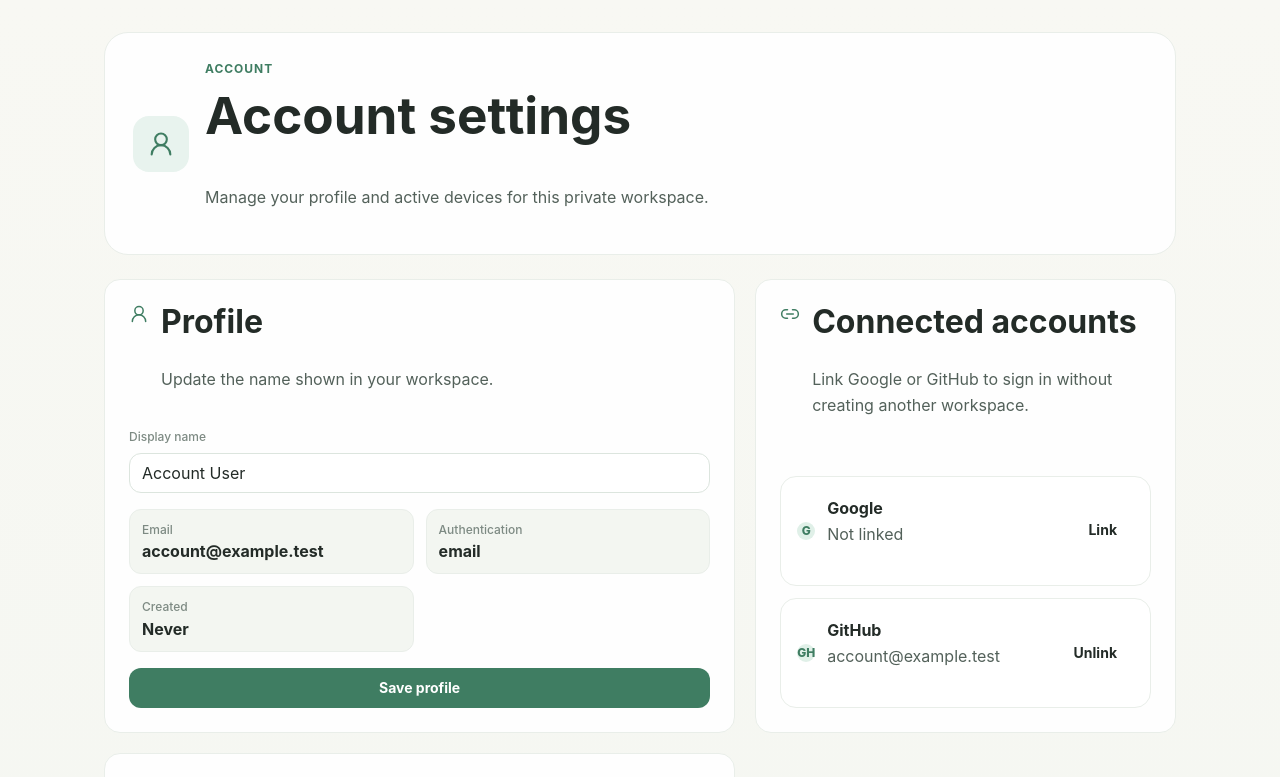
AccountPage › shows OAuth bindings and unlinks a provider with confirmation
Check: the text "GitHub" is shown, box [827, 620, 882, 640]
Check: the text "Google" is shown, box [827, 498, 883, 518]
Click the button "Unlink".
click(1095, 653)  # box [1057, 633, 1134, 673]
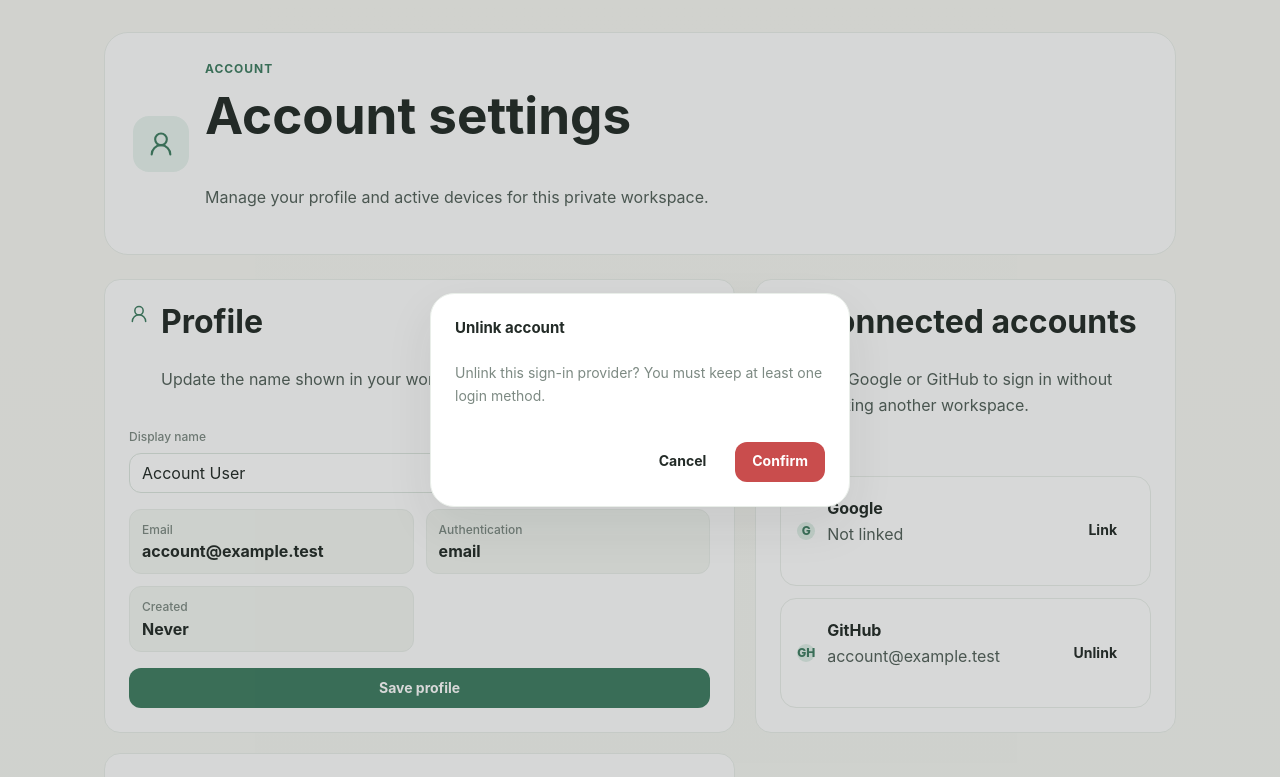
Check: the heading "Unlink account" is shown, box [455, 318, 565, 337]
Click the button "Confirm".
click(780, 462)  # box [735, 442, 825, 482]
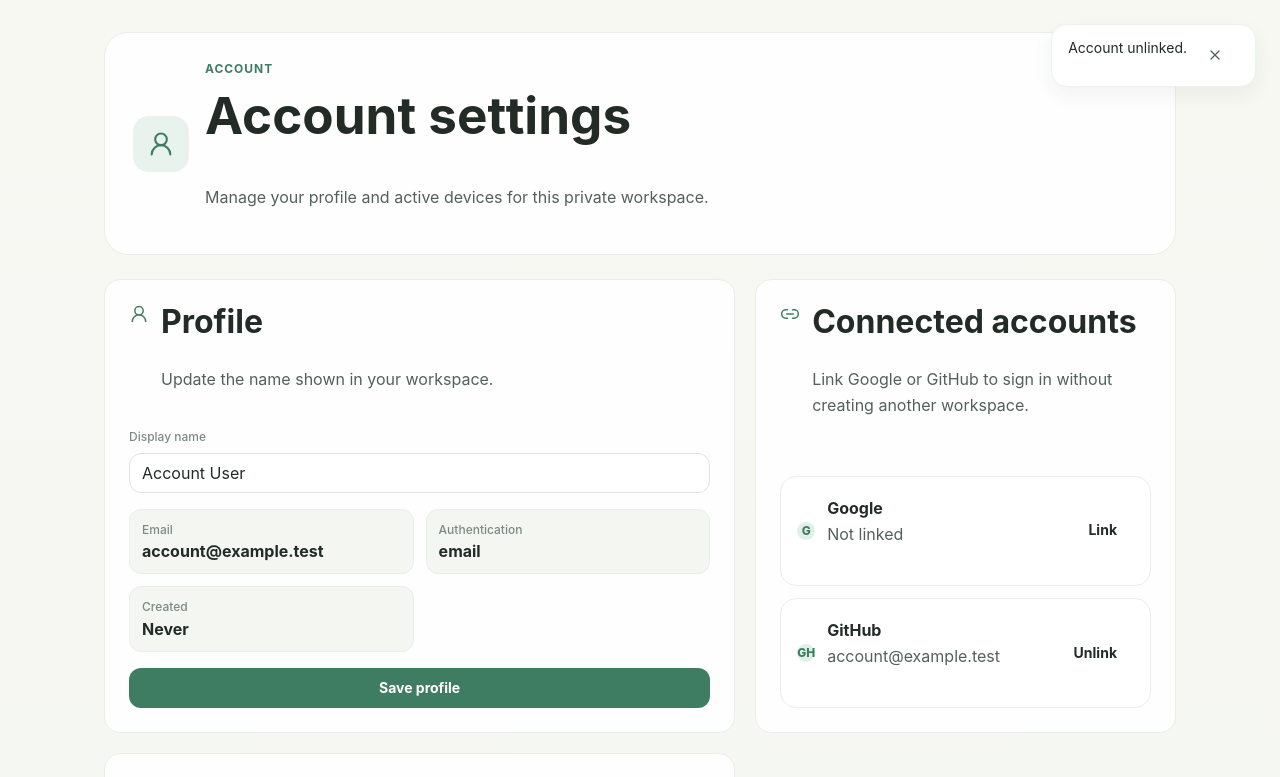
Check: the text "Account unlinked." is shown, box [1068, 37, 1187, 60]
